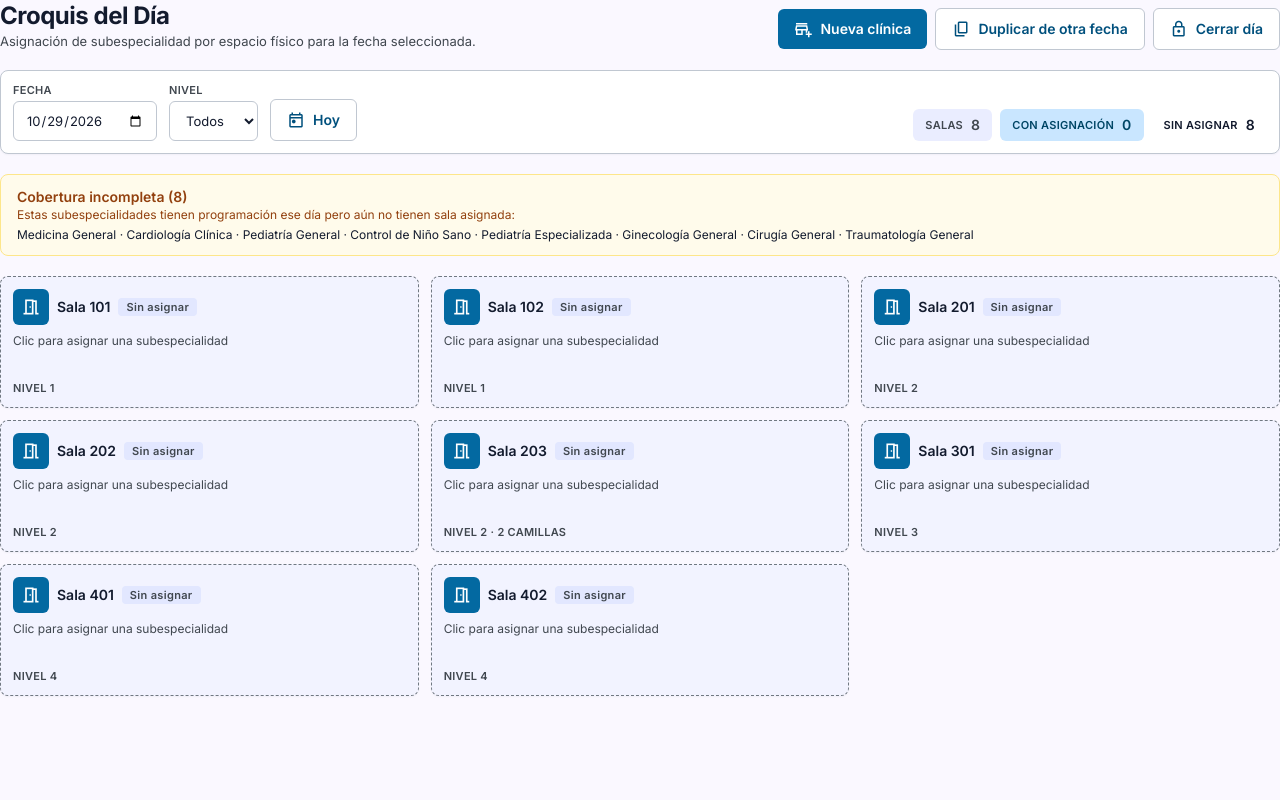
Test: CroquisPage › cierra el día con confirmación
Expected: the button with test id "sala-101" is shown, [0,276,419,408]
Click the button "Cerrar día" at (1216, 29), box [1153,8,1279,50]
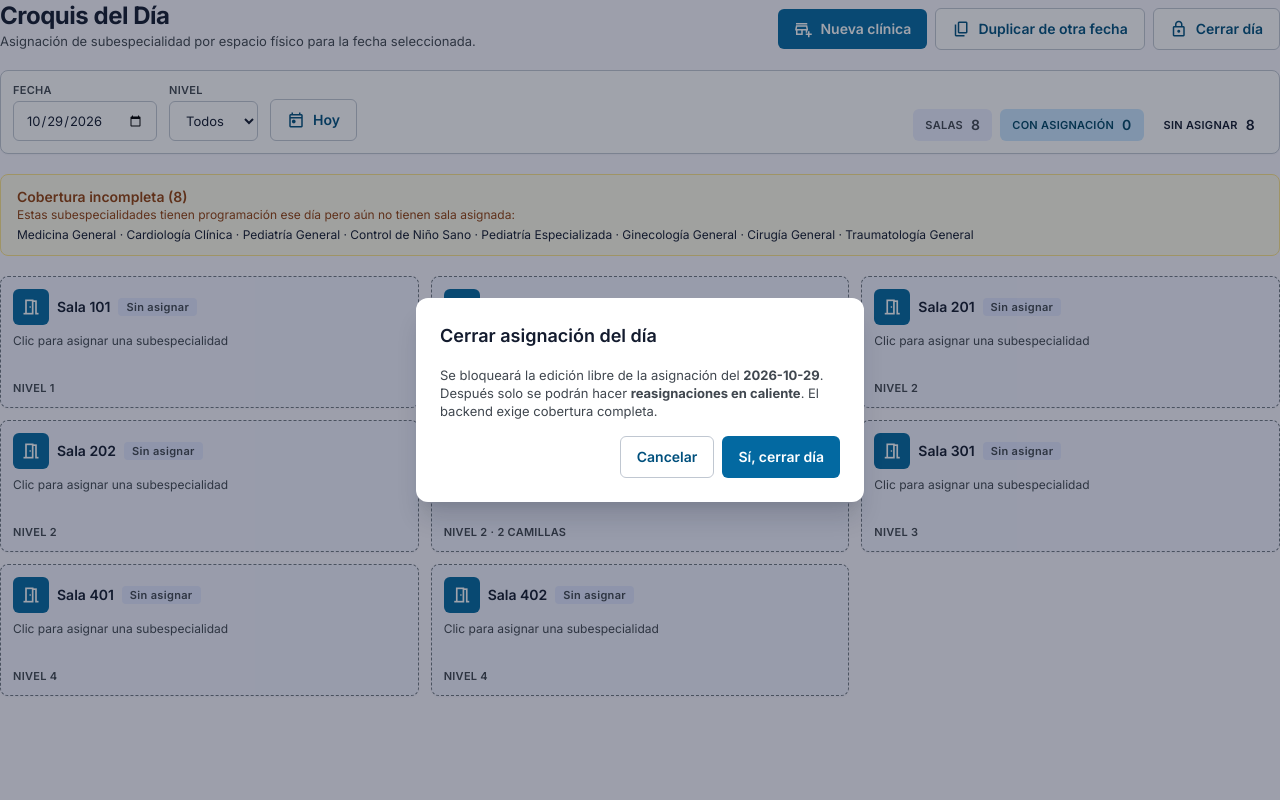
Click the button "Sí, cerrar día" at (781, 457), box [722,436,840,478]
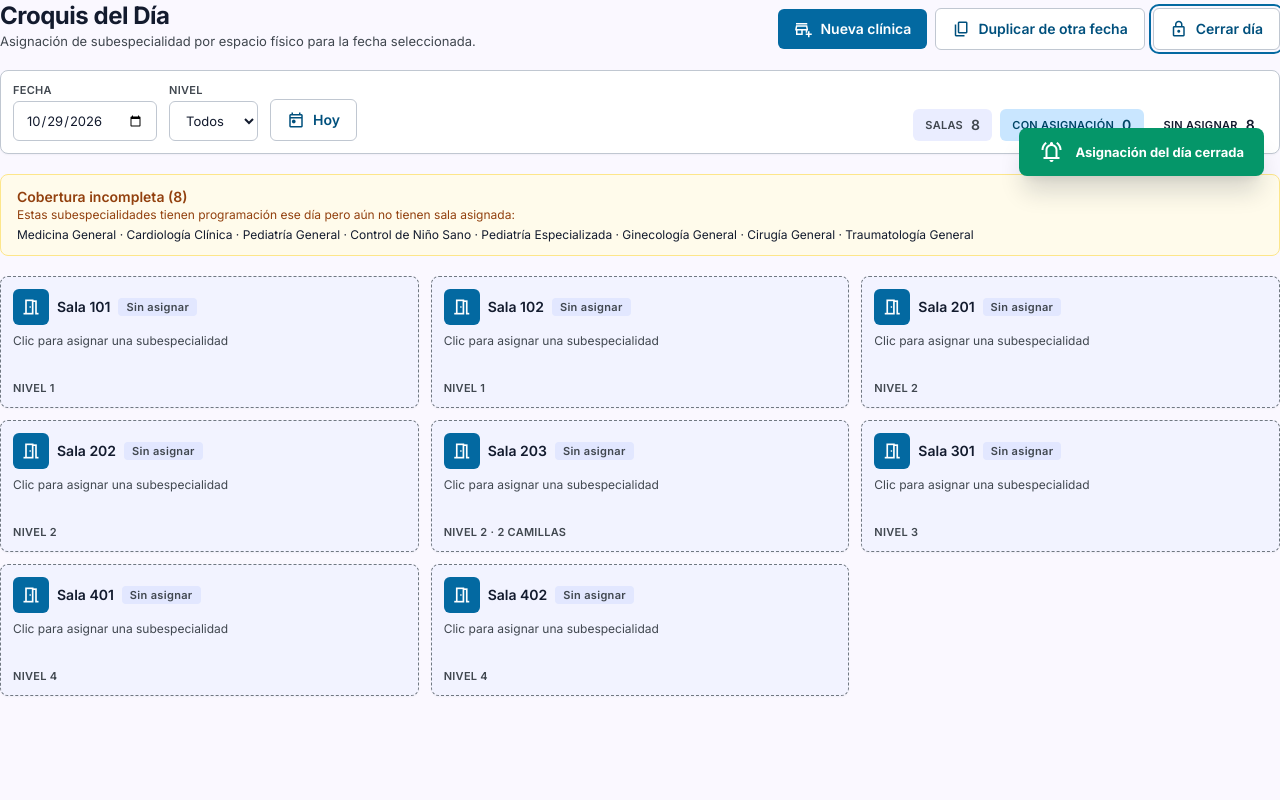
Expected: the text "Asignación del día cerrada" is shown, [1075,143,1244,161]
